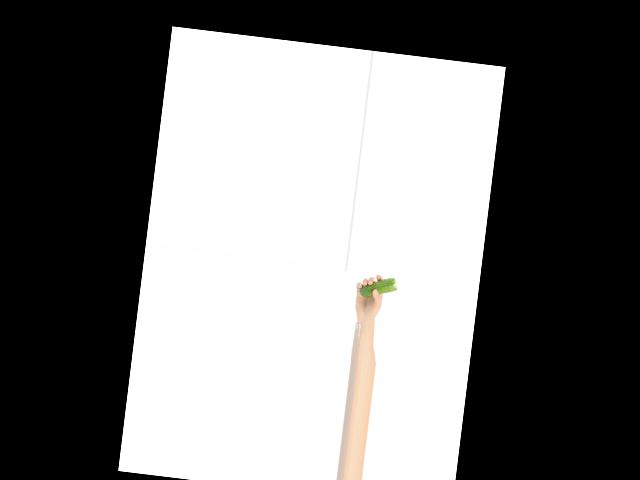cucumber: (358, 274, 398, 301)
